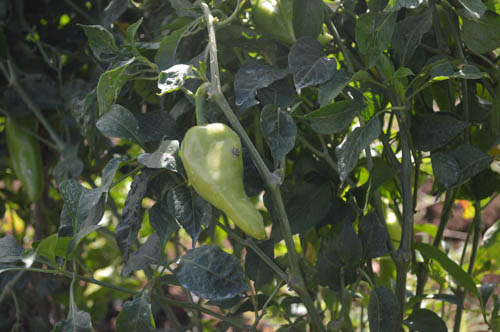ChiliPepper: (183, 126, 264, 241), (6, 119, 42, 204)
